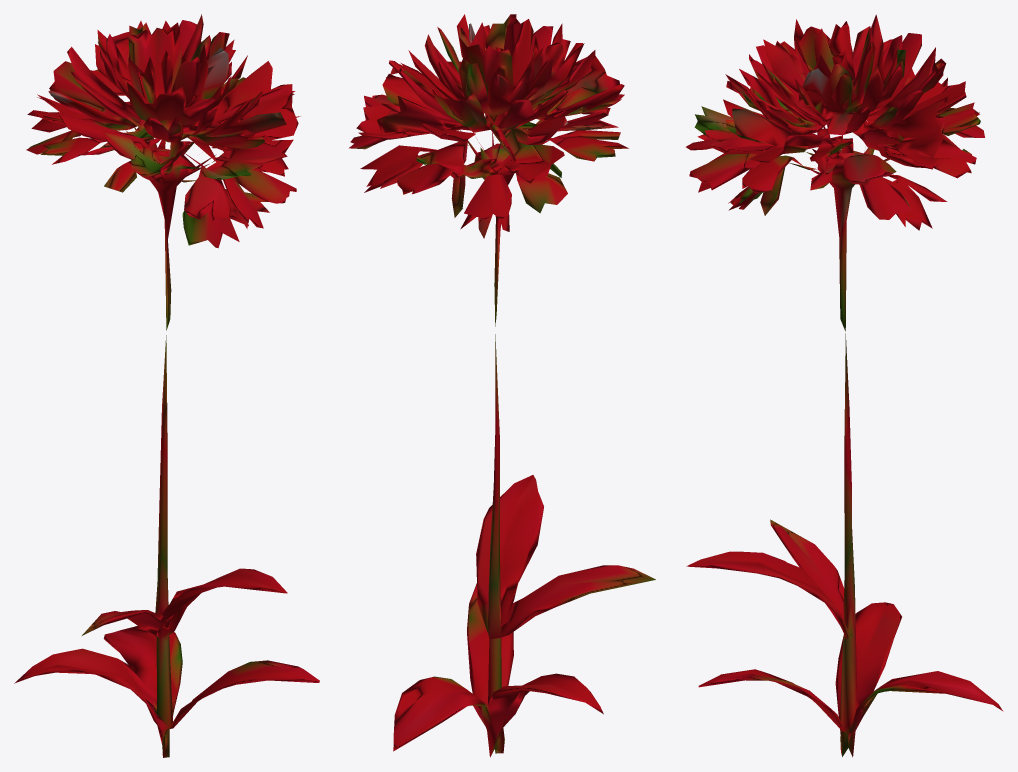
Rendered from amapola.glb.
3 renders of one model, left to right at view 1: azimuth 30°, elevation 25°; view 2: azimuth 150°, elevation 25°; view 3: azimuth 270°, elevation 25°, orthographic.
Visible parts, largest first — view 1: tripo_node_45b38fee-c2ce-452e-ae56-04b61eaa2126; view 2: tripo_node_45b38fee-c2ce-452e-ae56-04b61eaa2126; view 3: tripo_node_45b38fee-c2ce-452e-ae56-04b61eaa2126.
Part boxes in pixels (x1,y1,x2,y2): tripo_node_45b38fee-c2ce-452e-ae56-04b61eaa2126: (14,14,319,757); tripo_node_45b38fee-c2ce-452e-ae56-04b61eaa2126: (349,14,655,757); tripo_node_45b38fee-c2ce-452e-ae56-04b61eaa2126: (686,14,1003,757).
Bounding box in the file's own units: 0.3699 × 1 × 0.401.
